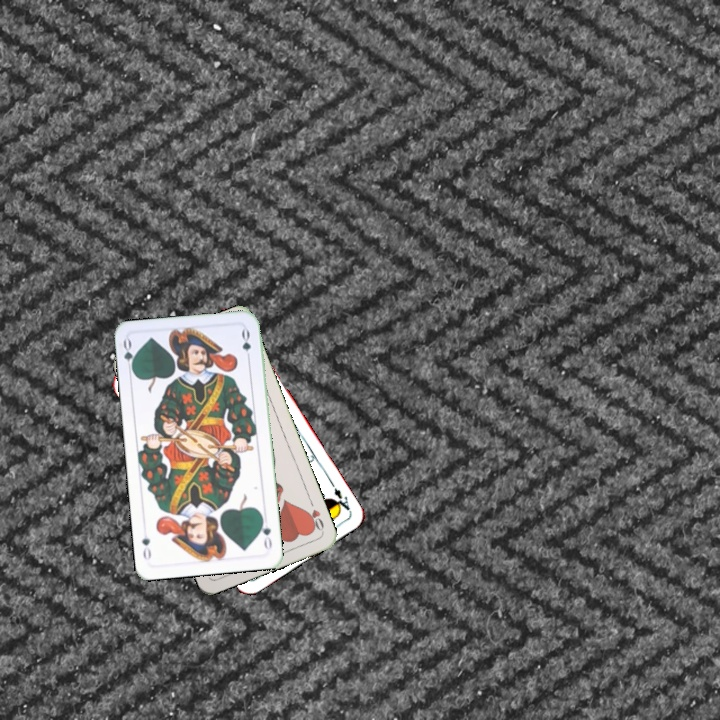EA: (327, 479, 354, 515)
GO: (119, 335, 138, 376), (256, 512, 274, 553)
HO: (302, 495, 326, 534)
